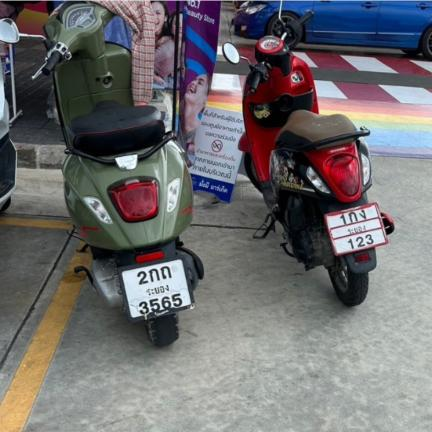1: (337, 213, 349, 225), (345, 237, 356, 250)
2: (135, 271, 148, 284), (354, 235, 366, 248)
3: (136, 300, 150, 317), (364, 232, 375, 245)
5: (170, 291, 184, 308), (148, 297, 162, 312)
6: (160, 294, 172, 309)
A01: (148, 268, 160, 282), (347, 211, 360, 223)
A07: (357, 209, 368, 221)
A22: (160, 266, 172, 280)
RYG: (143, 282, 172, 297), (346, 223, 368, 236)
